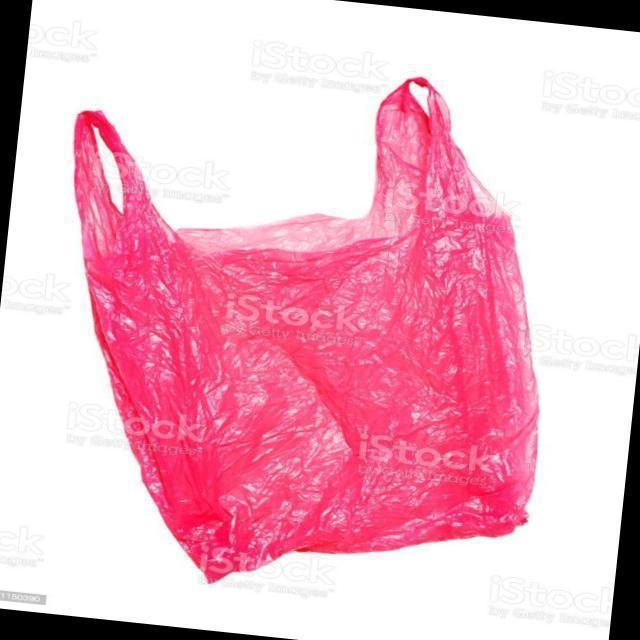Plastic_Bag: (27, 86, 574, 614)
